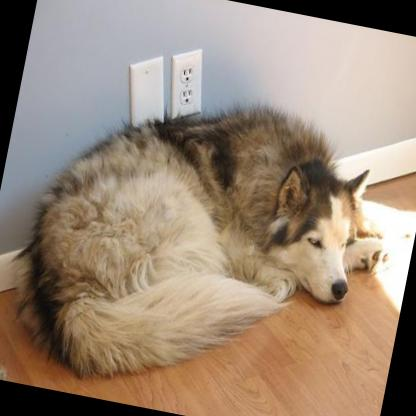Siberian_husky: (0, 61, 404, 416)
